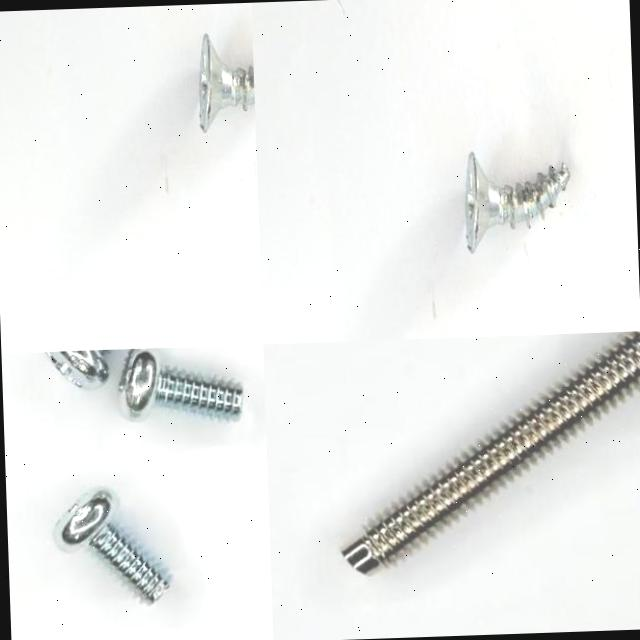Screw: (341, 331, 640, 574), (53, 490, 168, 604), (465, 153, 570, 254), (117, 348, 242, 420), (199, 34, 254, 133), (44, 349, 108, 389)
